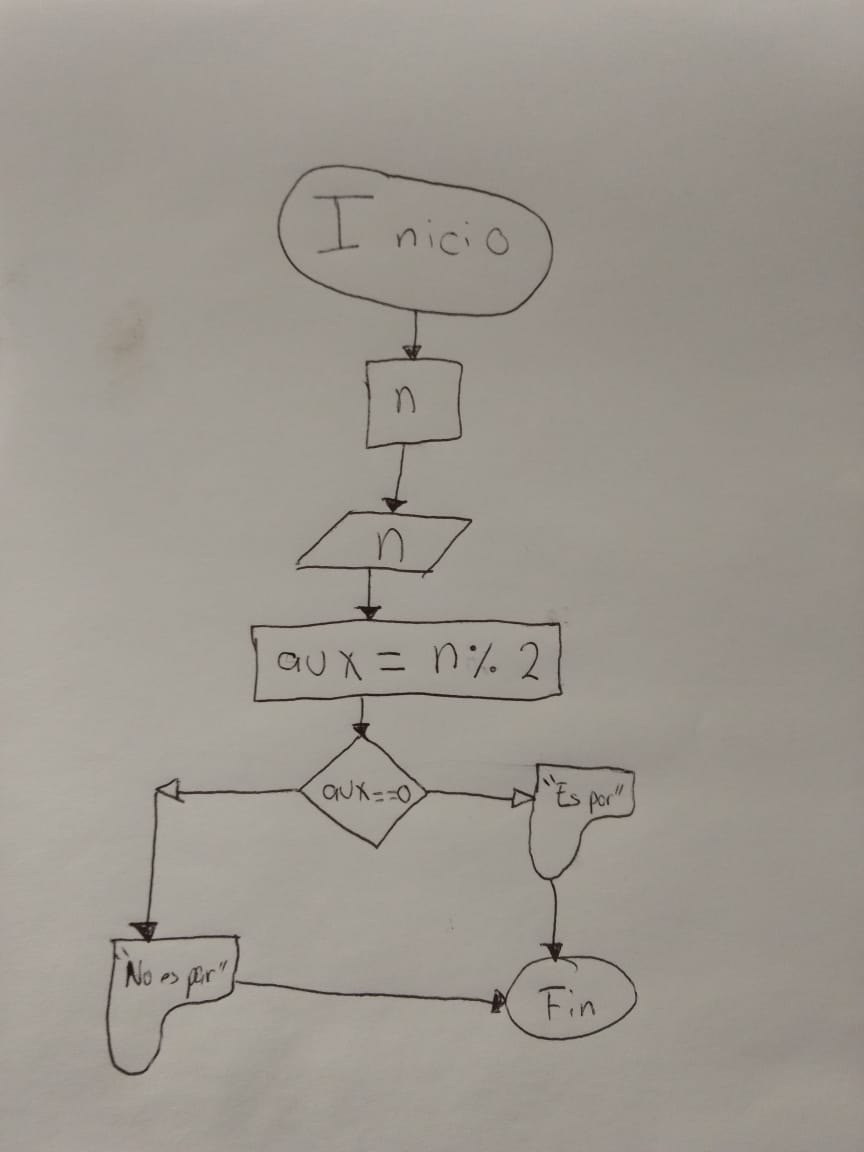arrow_line_down: (126, 784, 168, 942), (380, 442, 417, 515), (539, 877, 568, 965), (393, 305, 431, 359), (353, 568, 384, 620), (348, 694, 375, 740)
arrow_line_left: (154, 771, 301, 814)
arrow_line_right: (232, 964, 507, 1021), (420, 775, 535, 813)
decision: (298, 734, 428, 852)
print: (101, 931, 244, 1081), (526, 755, 640, 883)
process: (246, 612, 567, 709), (353, 353, 473, 454)
scan: (292, 506, 478, 580)
start_end: (271, 154, 562, 327), (502, 957, 644, 1045)
